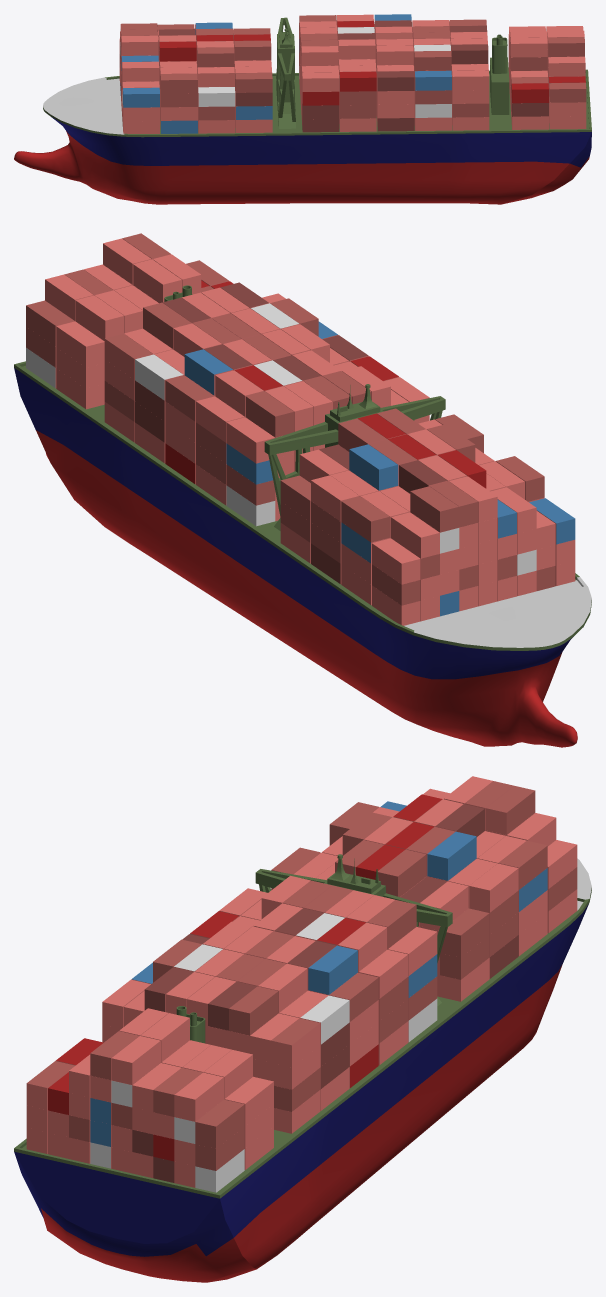
Rendered from intcargoship.glb.
3 views of the same model, one above another, from view 1: azimuth 30°, elevation 25°; view 2: azimuth 150°, elevation 25°; view 3: azimuth 270°, elevation 25° (orthographic). The views are drawn at different scales.
Parts seen in each view (by area): view 1: Ship; view 2: Ship; view 3: Ship.
Boxes of the visible parts, x1,y1,x2,y2 form: Ship: [14, 14, 591, 204]; Ship: [14, 233, 591, 747]; Ship: [14, 776, 591, 1282].
Bounding box in the file's own units: 0.2224 × 0.0808 × 0.145.
